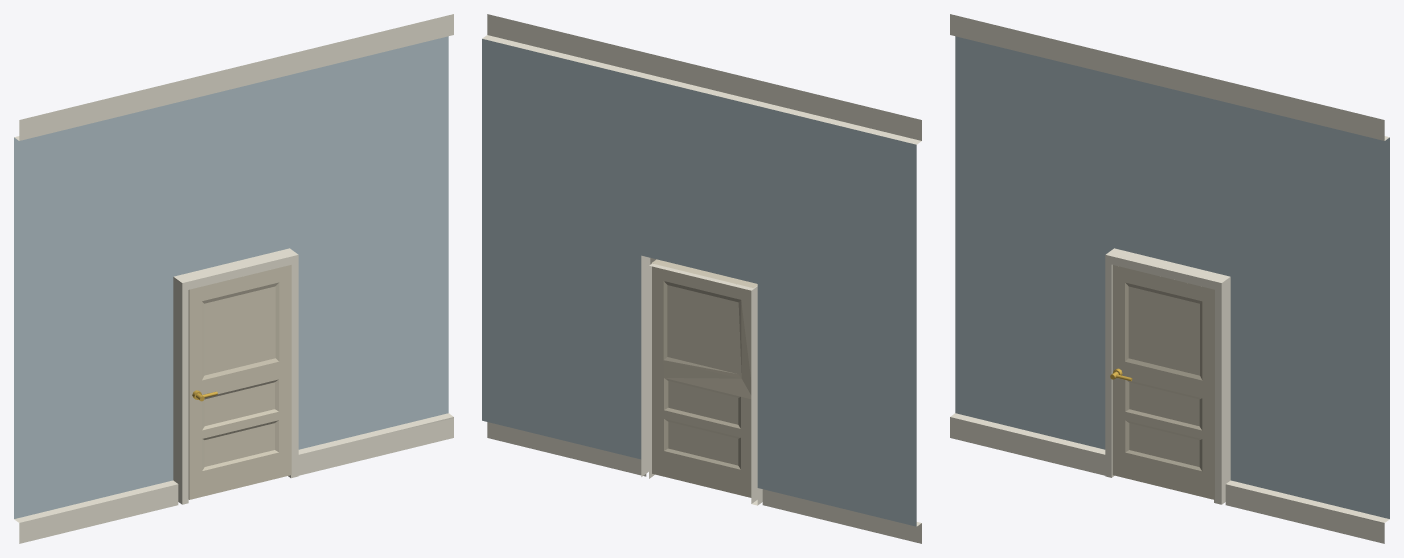
File: 06_wall(door).FBX
3 renders of one model, left to right at view 1: azimuth 30°, elevation 25°; view 2: azimuth 150°, elevation 25°; view 3: azimuth 330°, elevation 25°, orthographic.
Parts seen in each view (by area): view 1: 06_wall(door) (×2); view 2: 06_wall(door) (×2); view 3: 06_wall(door) (×2).
Boxes of the visible parts, box(x1,y1,x2,y2) form: 06_wall(door) (×2): box(14, 14, 453, 543); 06_wall(door) (×2): box(482, 14, 921, 543); 06_wall(door) (×2): box(950, 14, 1389, 543).
Size of the model in its own units: 272 by 253 by 16.72.
